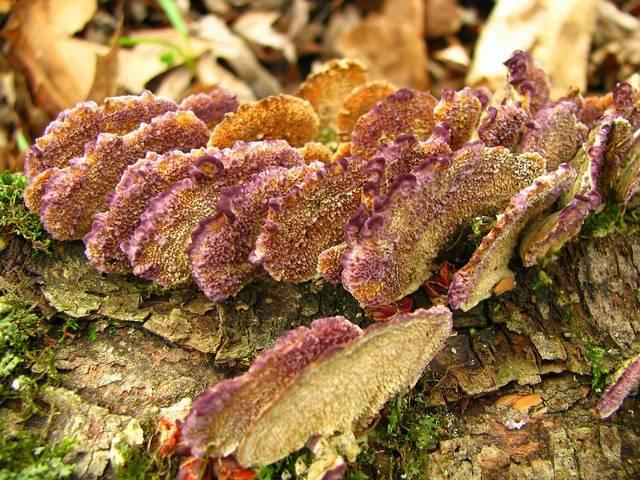poisonous_mushroom: (18, 49, 640, 302), (175, 303, 454, 469)
